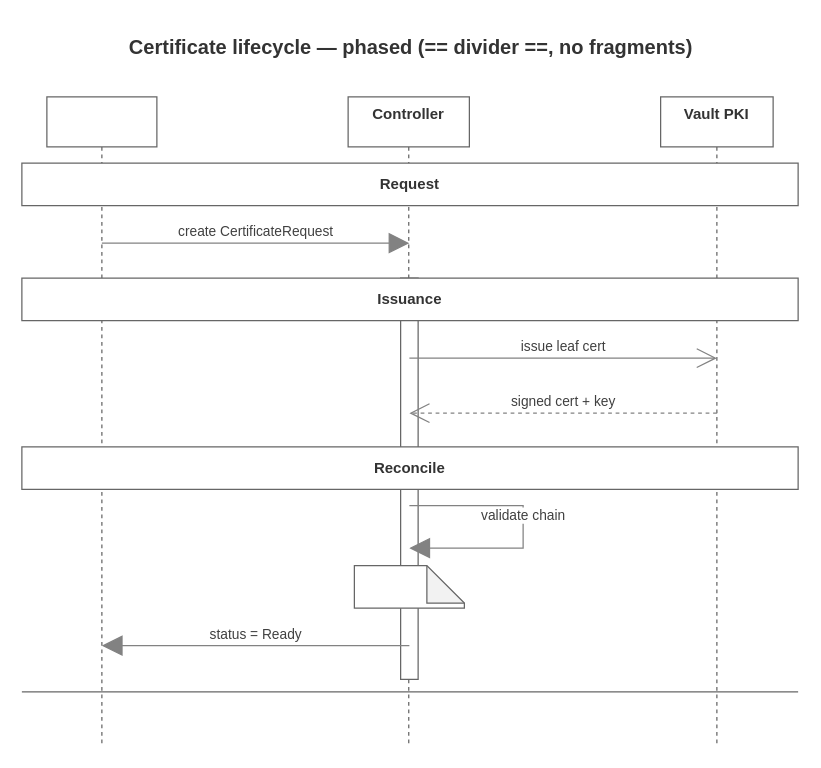
The diagram is 821 pixels wide and 768 high, and some of its shapes have lost their labels. The centre of each missing label's shape, as x and y in pixels:
"Operator" goes at (x=101, y=421).
"reconcile loop" goes at (x=408, y=586).
